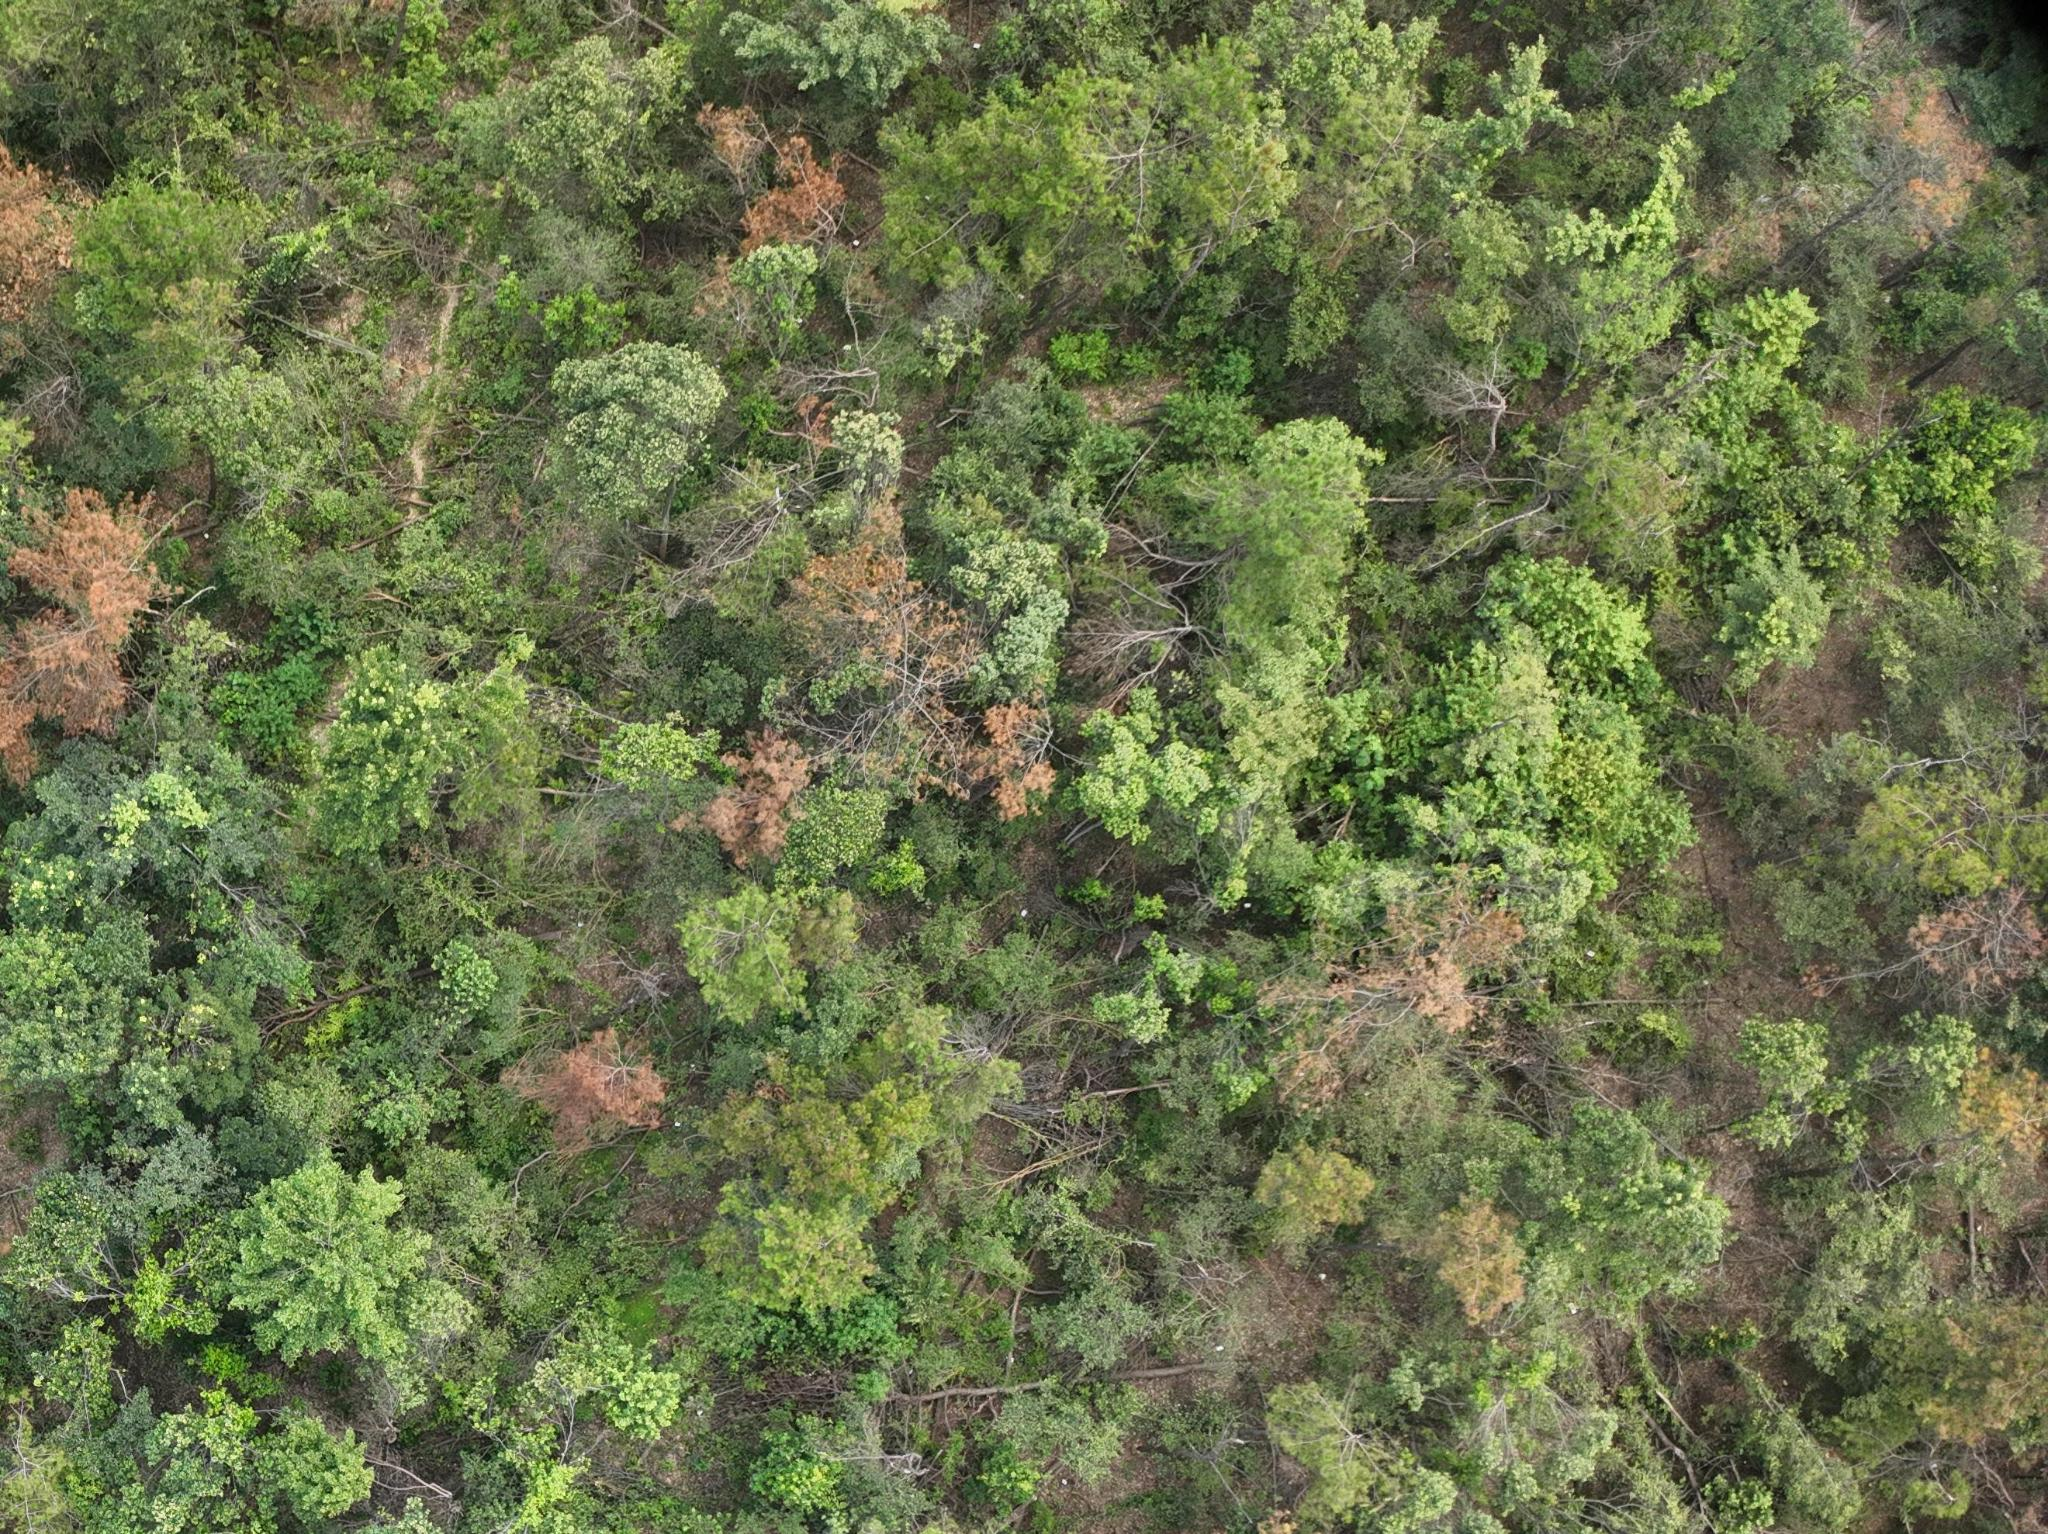heavy: (809, 517, 1041, 814), (1263, 877, 1524, 1080), (5, 491, 163, 765), (514, 1023, 686, 1152), (667, 738, 827, 862), (0, 142, 93, 353), (691, 127, 859, 243), (1908, 875, 2046, 1005)
